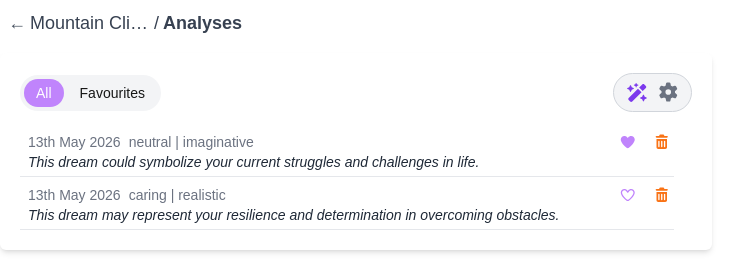
Analyses list should show: › Only favorite analyses when filter is set to favorites.
Click the tab with aria-label "Favorites". click: {"x": 112, "y": 92}
box: [68,78,157,106]
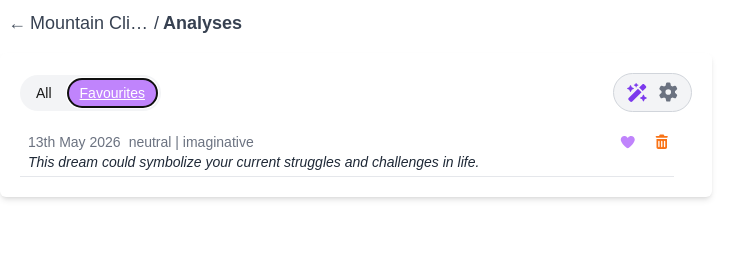
Expected: the text "This dream could symbolize" is shown, [28,154,479,170]
Expected: the text "This dream may represent" is gone
